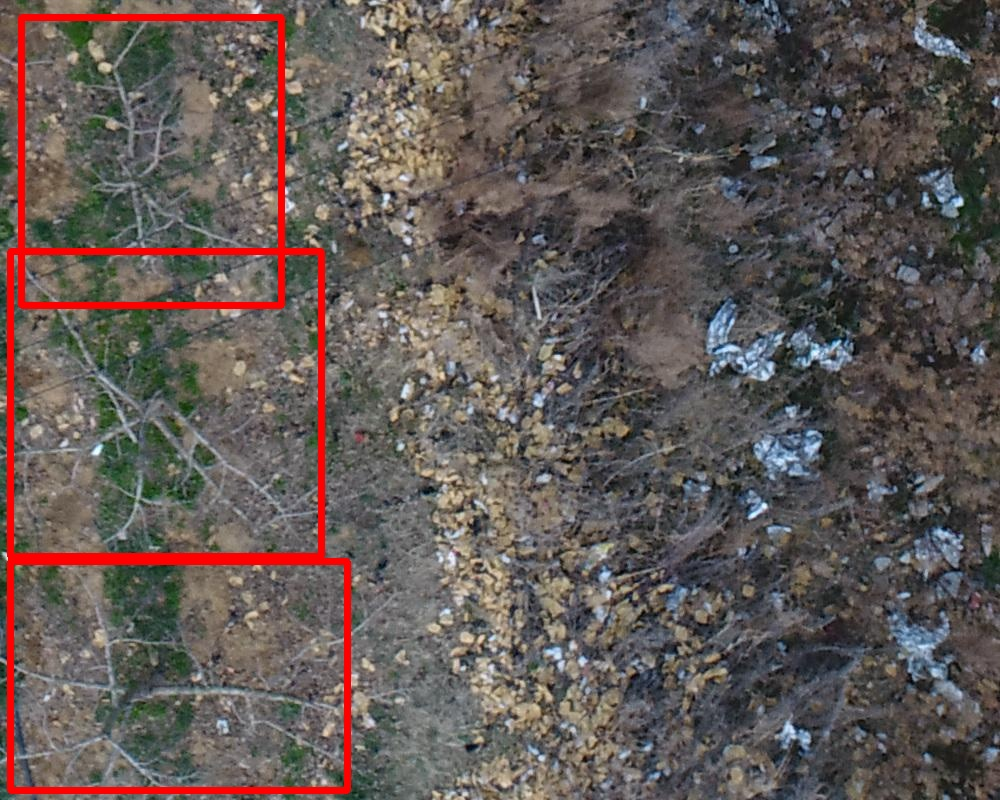apple: (10, 251, 321, 556), (10, 561, 347, 790), (21, 17, 281, 305)
